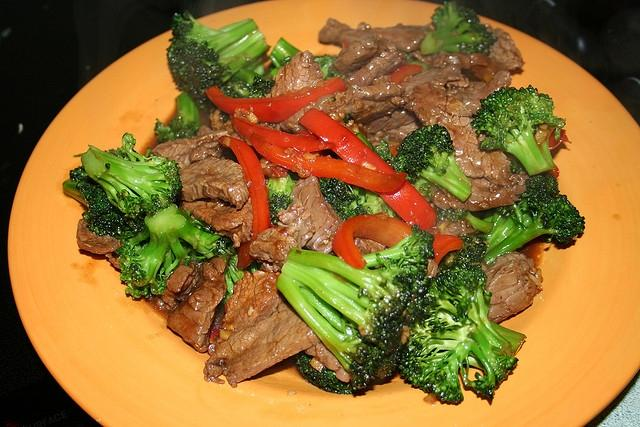bell pepper: (298, 108, 438, 231), (250, 131, 407, 193), (218, 136, 274, 268), (205, 77, 348, 123), (332, 214, 414, 268), (229, 115, 336, 154), (432, 234, 462, 266), (391, 64, 424, 84)
broccoli: (276, 226, 436, 390), (398, 262, 518, 404), (476, 172, 586, 268), (116, 203, 224, 300), (166, 10, 270, 109), (81, 132, 183, 222), (470, 85, 566, 176), (62, 165, 146, 245), (391, 124, 472, 202), (421, 1, 498, 56), (316, 178, 403, 222), (296, 349, 352, 394), (156, 93, 200, 144), (221, 252, 261, 304), (219, 68, 275, 99), (266, 172, 298, 225), (320, 54, 334, 79)
